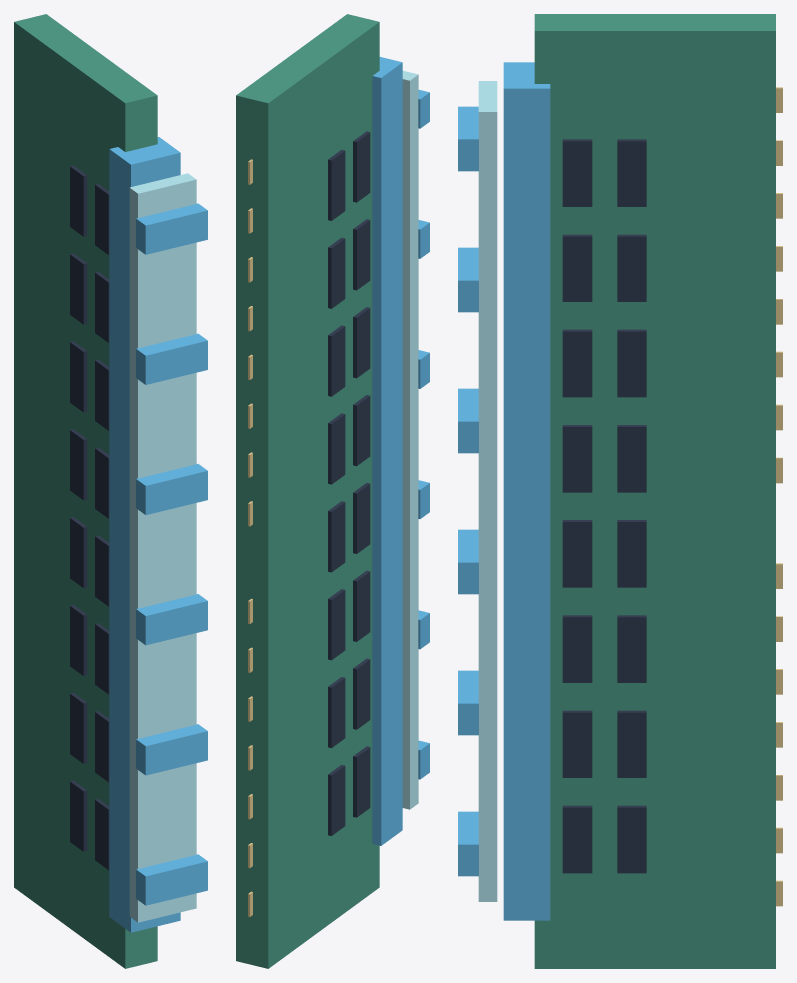
The model's file is ram-blue.glb.
3 renders of one model, left to right at view 1: azimuth 30°, elevation 25°; view 2: azimuth 150°, elevation 25°; view 3: azimuth 270°, elevation 25°, orthographic. The views are drawn at different scales.
Visible parts, largest first — view 1: memory_pcb_1, rgb_diffuser_34, heatspreader_33, rgb_zone_38, rgb_zone_39, rgb_zone_36, rgb_zone_37, rgb_zone_35, rgb_zone_40, dram_ic_21, dram_ic_23, dram_ic_17 (+13 smaller); view 2: memory_pcb_1, heatspreader_33, rgb_diffuser_34, dram_ic_23, dram_ic_20, dram_ic_25, dram_ic_26, dram_ic_27, dram_ic_31, dram_ic_21, dram_ic_22, dram_ic_29 (+7 smaller); view 3: memory_pcb_1, heatspreader_33, rgb_diffuser_34, dram_ic_25, dram_ic_30, dram_ic_27, dram_ic_28, dram_ic_29, dram_ic_32, dram_ic_26, dram_ic_31, dram_ic_17 (+13 smaller).
Boxes of the visible parts, x1,y1,x2,y2 form: memory_pcb_1: [14, 14, 157, 968]; rgb_diffuser_34: [129, 173, 196, 922]; heatspreader_33: [109, 137, 180, 932]; rgb_zone_38: [136, 464, 207, 514]; rgb_zone_39: [136, 333, 207, 384]; rgb_zone_36: [136, 724, 207, 775]; rgb_zone_37: [136, 594, 207, 645]; rgb_zone_35: [136, 854, 207, 905]; rgb_zone_40: [136, 203, 207, 254]; dram_ic_21: [70, 429, 87, 500]; dram_ic_23: [70, 253, 87, 324]; dram_ic_17: [70, 780, 87, 851]; memory_pcb_1: [236, 14, 379, 968]; heatspreader_33: [372, 57, 402, 845]; rgb_diffuser_34: [402, 70, 418, 809]; dram_ic_23: [328, 237, 345, 308]; dram_ic_20: [328, 501, 345, 572]; dram_ic_25: [353, 746, 370, 817]; dram_ic_26: [353, 658, 370, 729]; dram_ic_27: [353, 570, 370, 641]; dram_ic_31: [353, 219, 370, 290]; dram_ic_21: [328, 413, 345, 484]; dram_ic_22: [328, 325, 345, 396]; dram_ic_29: [353, 395, 370, 466]; memory_pcb_1: [534, 14, 775, 968]; heatspreader_33: [503, 62, 550, 920]; rgb_diffuser_34: [478, 81, 497, 901]; dram_ic_25: [562, 805, 592, 873]; dram_ic_30: [562, 329, 592, 397]; dram_ic_27: [562, 615, 592, 682]; dram_ic_28: [562, 520, 592, 587]; dram_ic_29: [562, 425, 592, 492]; dram_ic_32: [562, 139, 592, 206]; dram_ic_26: [562, 710, 592, 777]; dram_ic_31: [562, 234, 592, 301]; dram_ic_17: [617, 805, 646, 873].
Bounding box in the file's own units: 0.1 × 1.33 × 0.4175.
